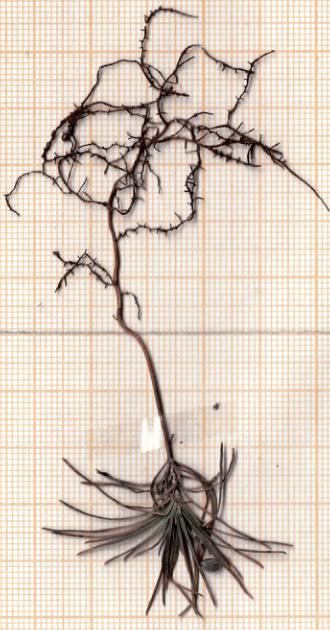flower: (38, 448, 298, 622)
root: (0, 4, 330, 326)
stem: (116, 326, 183, 456)
